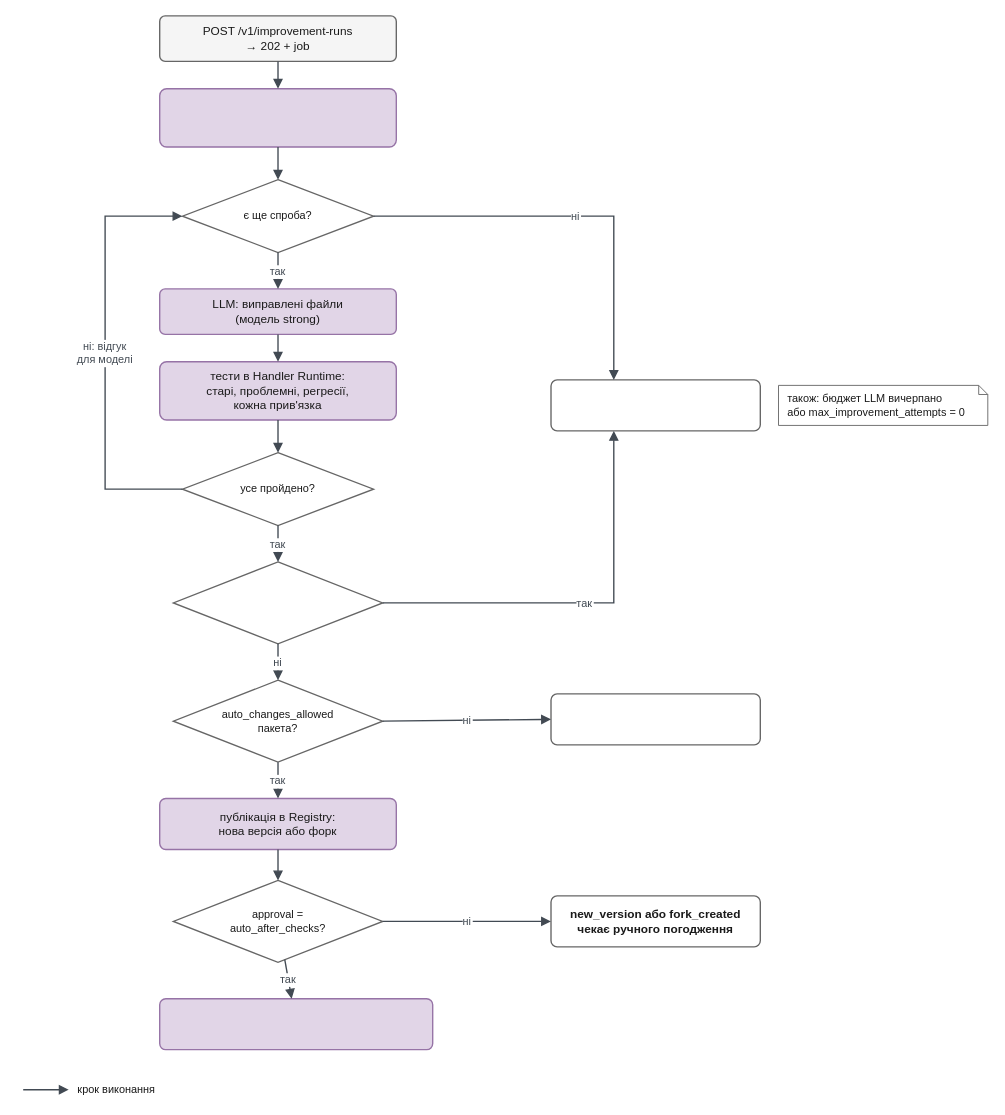
This 1005x1115 diagram has some shape labels left out. The centre of each missing label's shape, as x and y in pixels:
"approved і активація на прив'язках; відмова → відкат усіх" belongs at point 296,1024.
"proposal_only нічого не опубліковано" belongs at point 655,719.
"unresolved група проблем: unresolved" belongs at point 655,405.
"пакет і архів — Registry; зразки — inline або Storage; прив'язки — Orchestrator" belongs at point 278,117.
"потрібен форк і allow_fork = false?" belongs at point 277,602.
